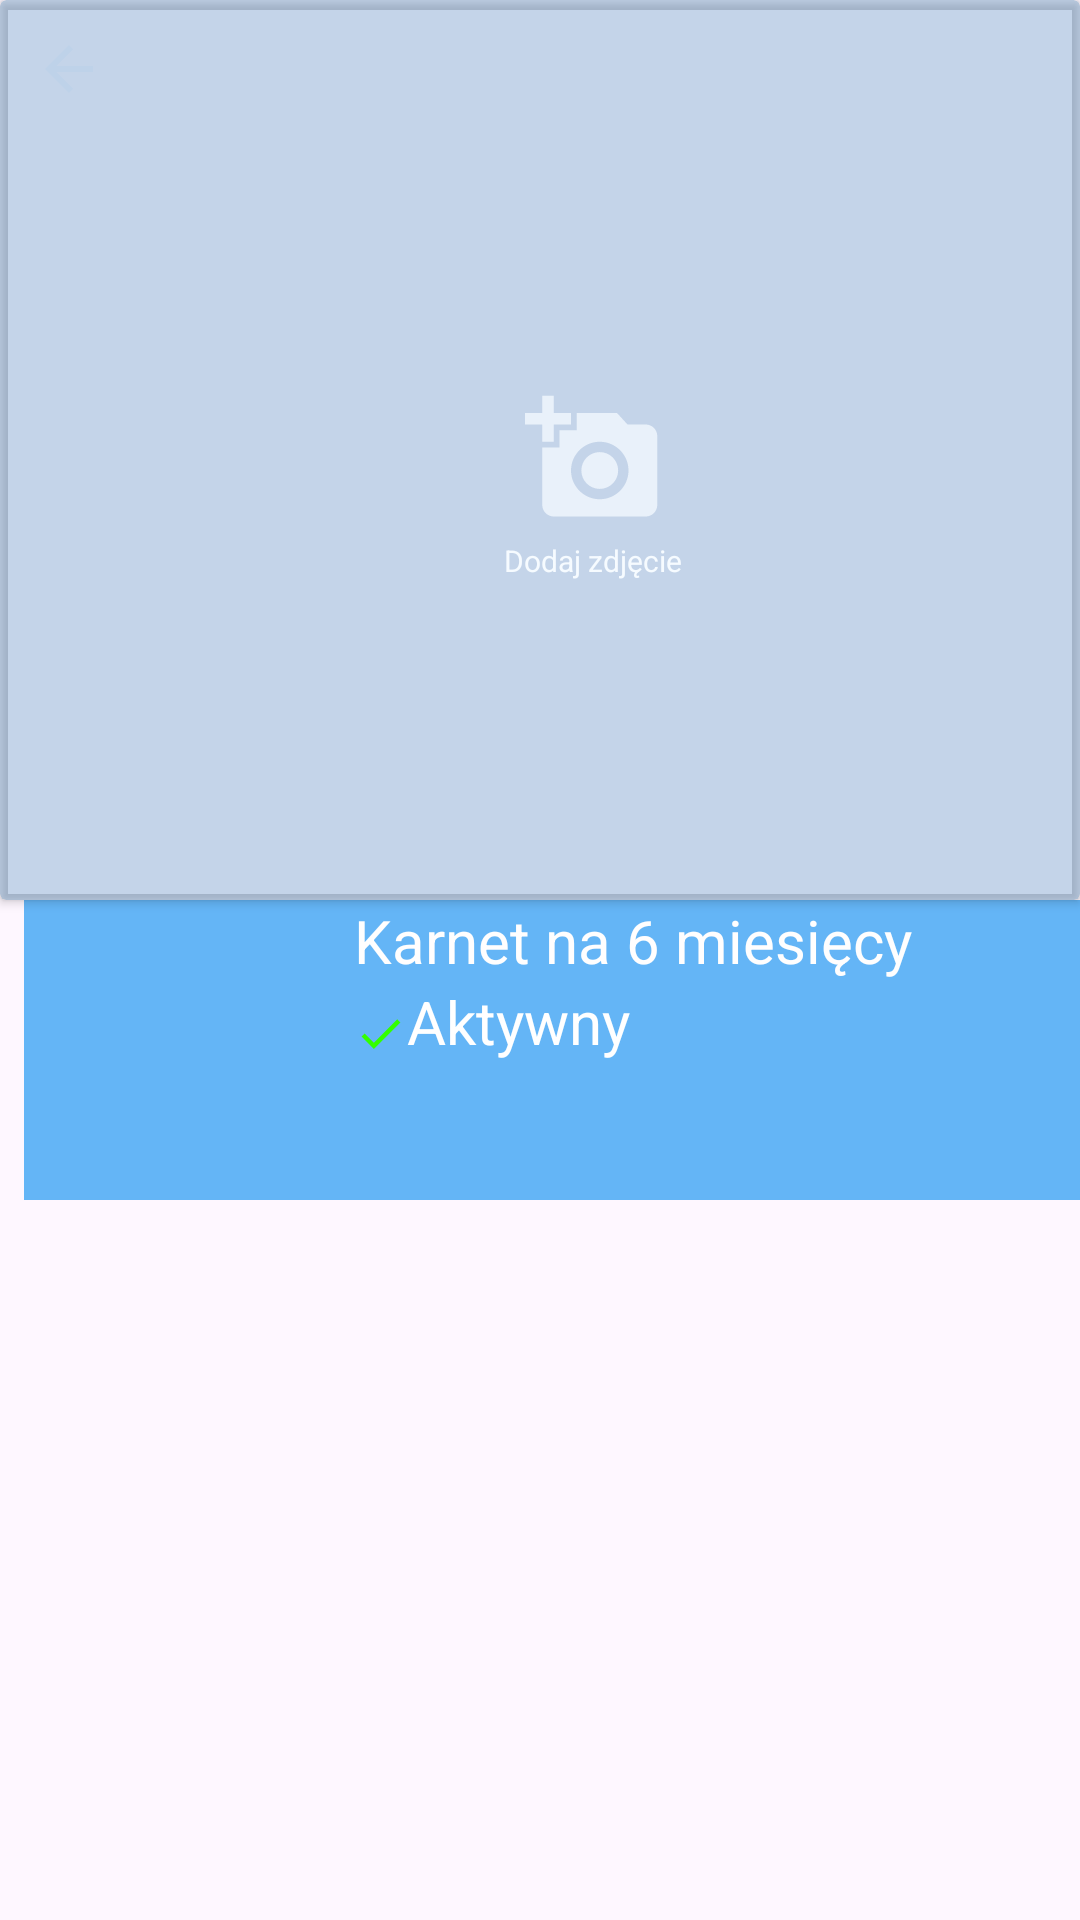

Icon click points for this 1080w x 1920h phone screenshot, format point (x, y):
check: point (381, 1034)
